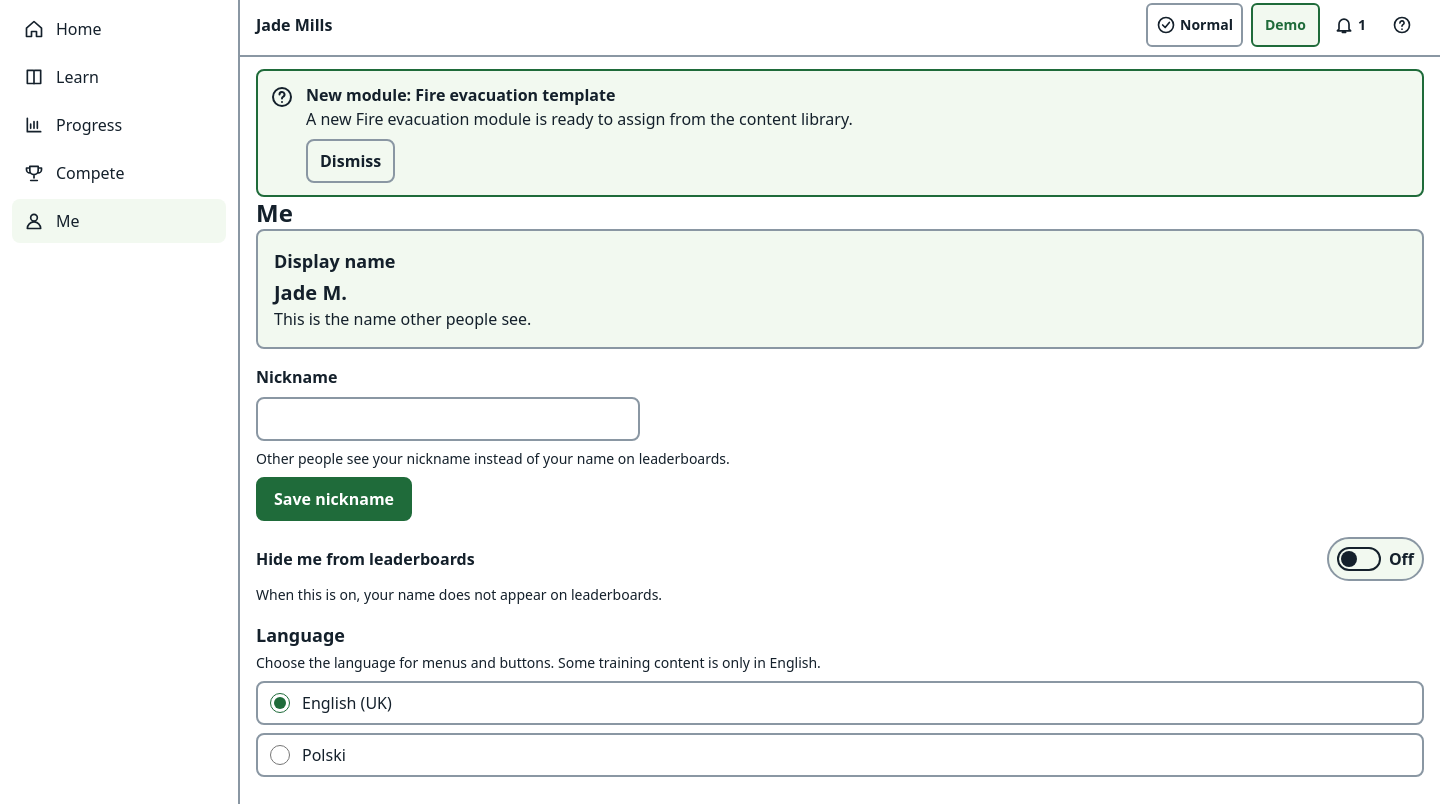
S11 language picker › choosing Polski saves the preference through the data layer and shows the machine-translated note
The width and height of the screenshot is (1440, 804).
Click the radio button labelled "Polski" at (280, 755), box [270,745,290,765]
(page scrolled)
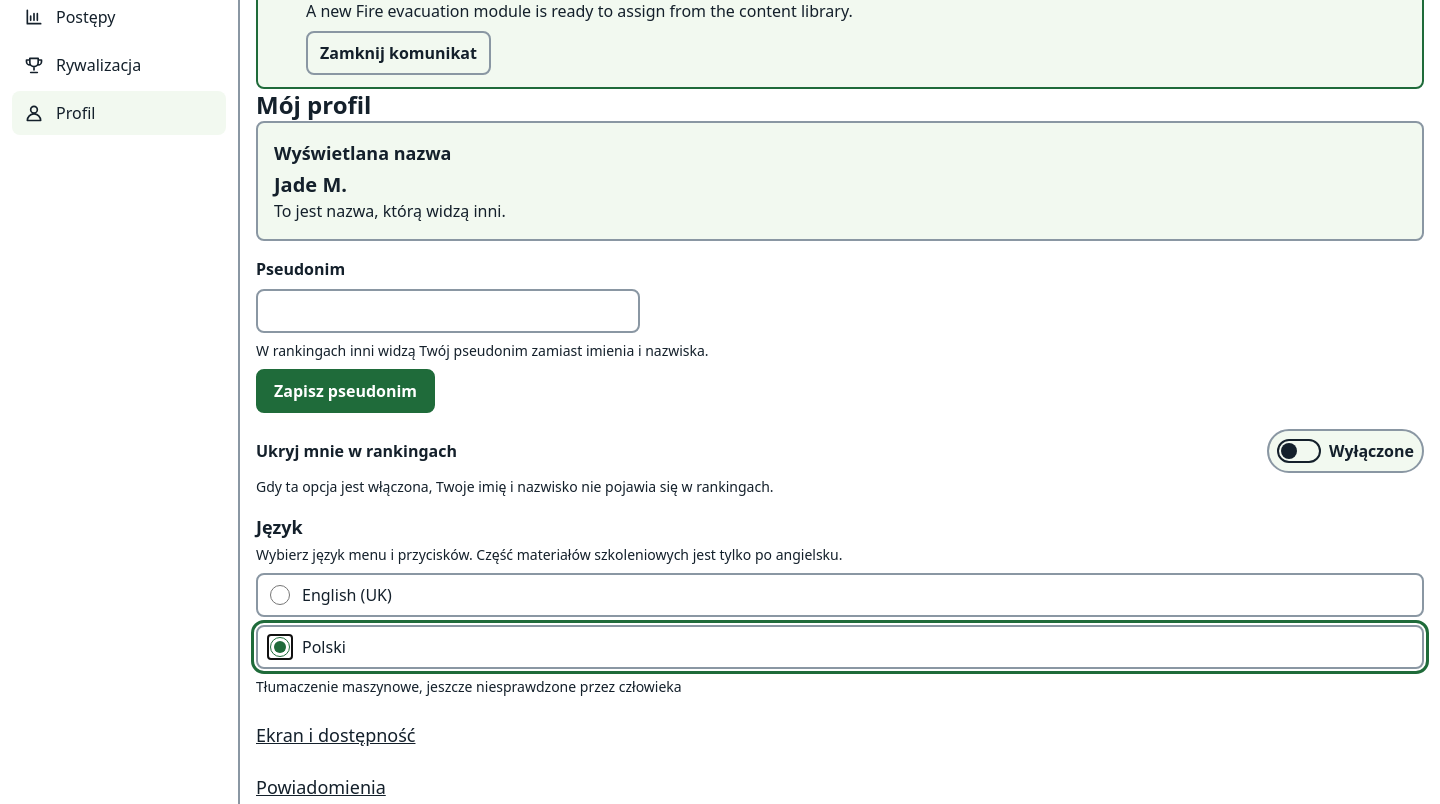
Expected: the text "Tłumaczenie maszynowe, jeszcze niesprawdzone przez człowieka" is shown, [256,677,682,696]
